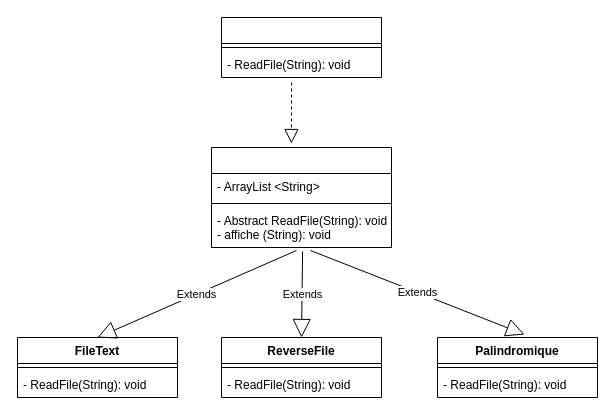
The diagram is 615 pixels wide and 418 high, and some of its shapes have lost their labels. The box of each missing label's shape, as (x1, y1, x2, y2) in pixels:
FileType abstract: (210, 146, 392, 248)
LecteurFichiers: (220, 16, 382, 78)
